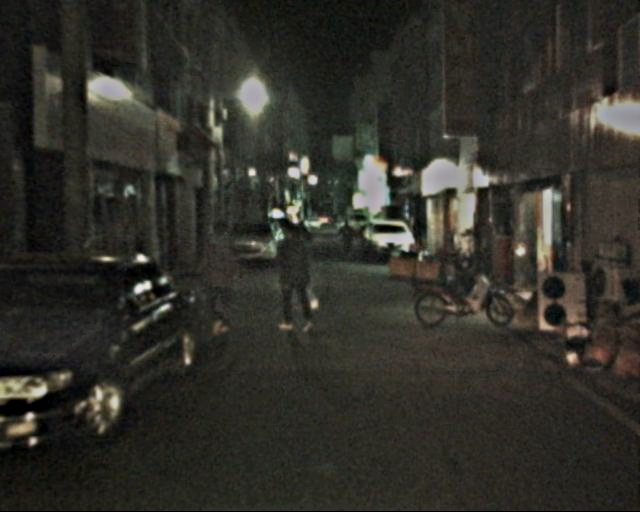person: (198, 215, 245, 337), (272, 222, 318, 333), (339, 219, 355, 255)
